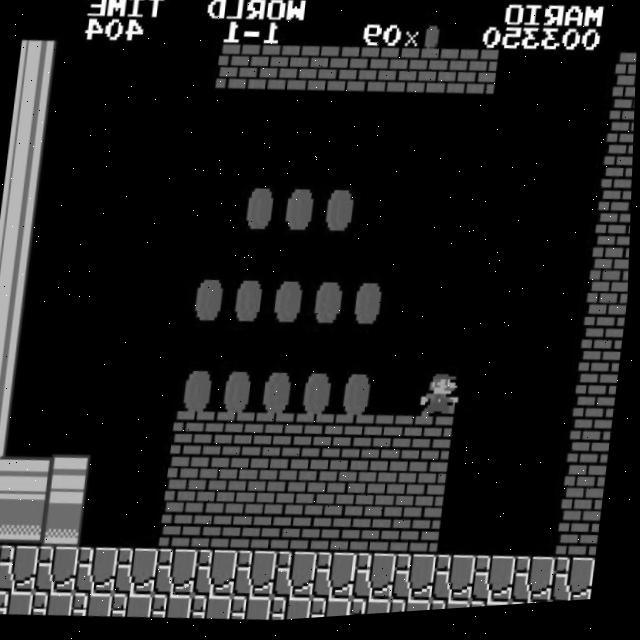1- brick_block: (413, 52, 460, 104), (365, 464, 412, 516), (286, 461, 333, 513), (453, 54, 500, 105), (405, 466, 452, 517), (360, 510, 407, 561), (373, 51, 420, 102), (294, 48, 341, 99), (246, 460, 293, 511), (254, 47, 301, 98), (400, 511, 446, 563), (321, 508, 367, 560), (334, 49, 380, 101), (202, 504, 248, 556), (215, 45, 261, 97), (331, 417, 378, 467), (291, 416, 338, 466), (212, 413, 259, 463), (172, 412, 219, 462), (371, 418, 417, 469), (326, 463, 372, 514), (281, 507, 327, 558), (252, 414, 298, 465), (241, 506, 287, 557), (207, 459, 253, 510), (167, 457, 213, 508), (162, 503, 208, 554), (576, 379, 621, 431), (560, 516, 605, 568), (570, 425, 616, 475), (411, 420, 457, 470), (586, 287, 631, 338), (581, 333, 626, 384), (565, 471, 610, 522), (592, 242, 632, 294), (597, 196, 633, 247), (602, 151, 635, 201), (608, 105, 636, 155), (613, 59, 637, 110)
11- little_mario: (421, 374, 470, 429)
14- pipe: (16, 38, 63, 90), (0, 175, 47, 226), (8, 451, 54, 503), (3, 497, 49, 549), (11, 84, 57, 134), (6, 130, 52, 180), (0, 221, 41, 272), (0, 267, 36, 317), (0, 312, 31, 363), (0, 358, 26, 409), (0, 404, 20, 454), (0, 450, 15, 499), (0, 495, 10, 545)
15- pipe_head: (42, 499, 89, 550), (48, 453, 94, 504)
17- undestructible_block: (315, 554, 362, 606), (513, 561, 560, 612), (275, 553, 322, 604), (196, 550, 243, 601), (156, 549, 203, 600), (116, 548, 163, 599), (435, 558, 481, 610), (236, 551, 282, 603), (77, 546, 123, 598), (474, 560, 520, 611), (395, 557, 441, 608), (355, 556, 401, 607), (37, 545, 83, 596), (0, 543, 44, 595), (554, 562, 600, 610), (74, 591, 118, 620), (233, 597, 277, 625), (34, 590, 78, 618), (194, 596, 237, 624), (154, 594, 197, 622), (114, 593, 157, 621), (272, 598, 316, 625), (0, 589, 38, 617), (312, 599, 356, 623), (352, 601, 396, 621), (392, 602, 436, 618), (432, 604, 476, 616), (472, 605, 516, 614), (0, 541, 4, 591)
2- coin: (347, 279, 394, 331), (188, 274, 235, 326), (307, 278, 354, 329), (238, 184, 285, 235), (217, 367, 264, 418), (337, 371, 383, 423), (278, 186, 325, 236), (297, 370, 343, 421), (268, 277, 314, 328), (257, 369, 303, 420), (228, 276, 274, 327), (178, 366, 224, 417), (318, 187, 364, 237)
